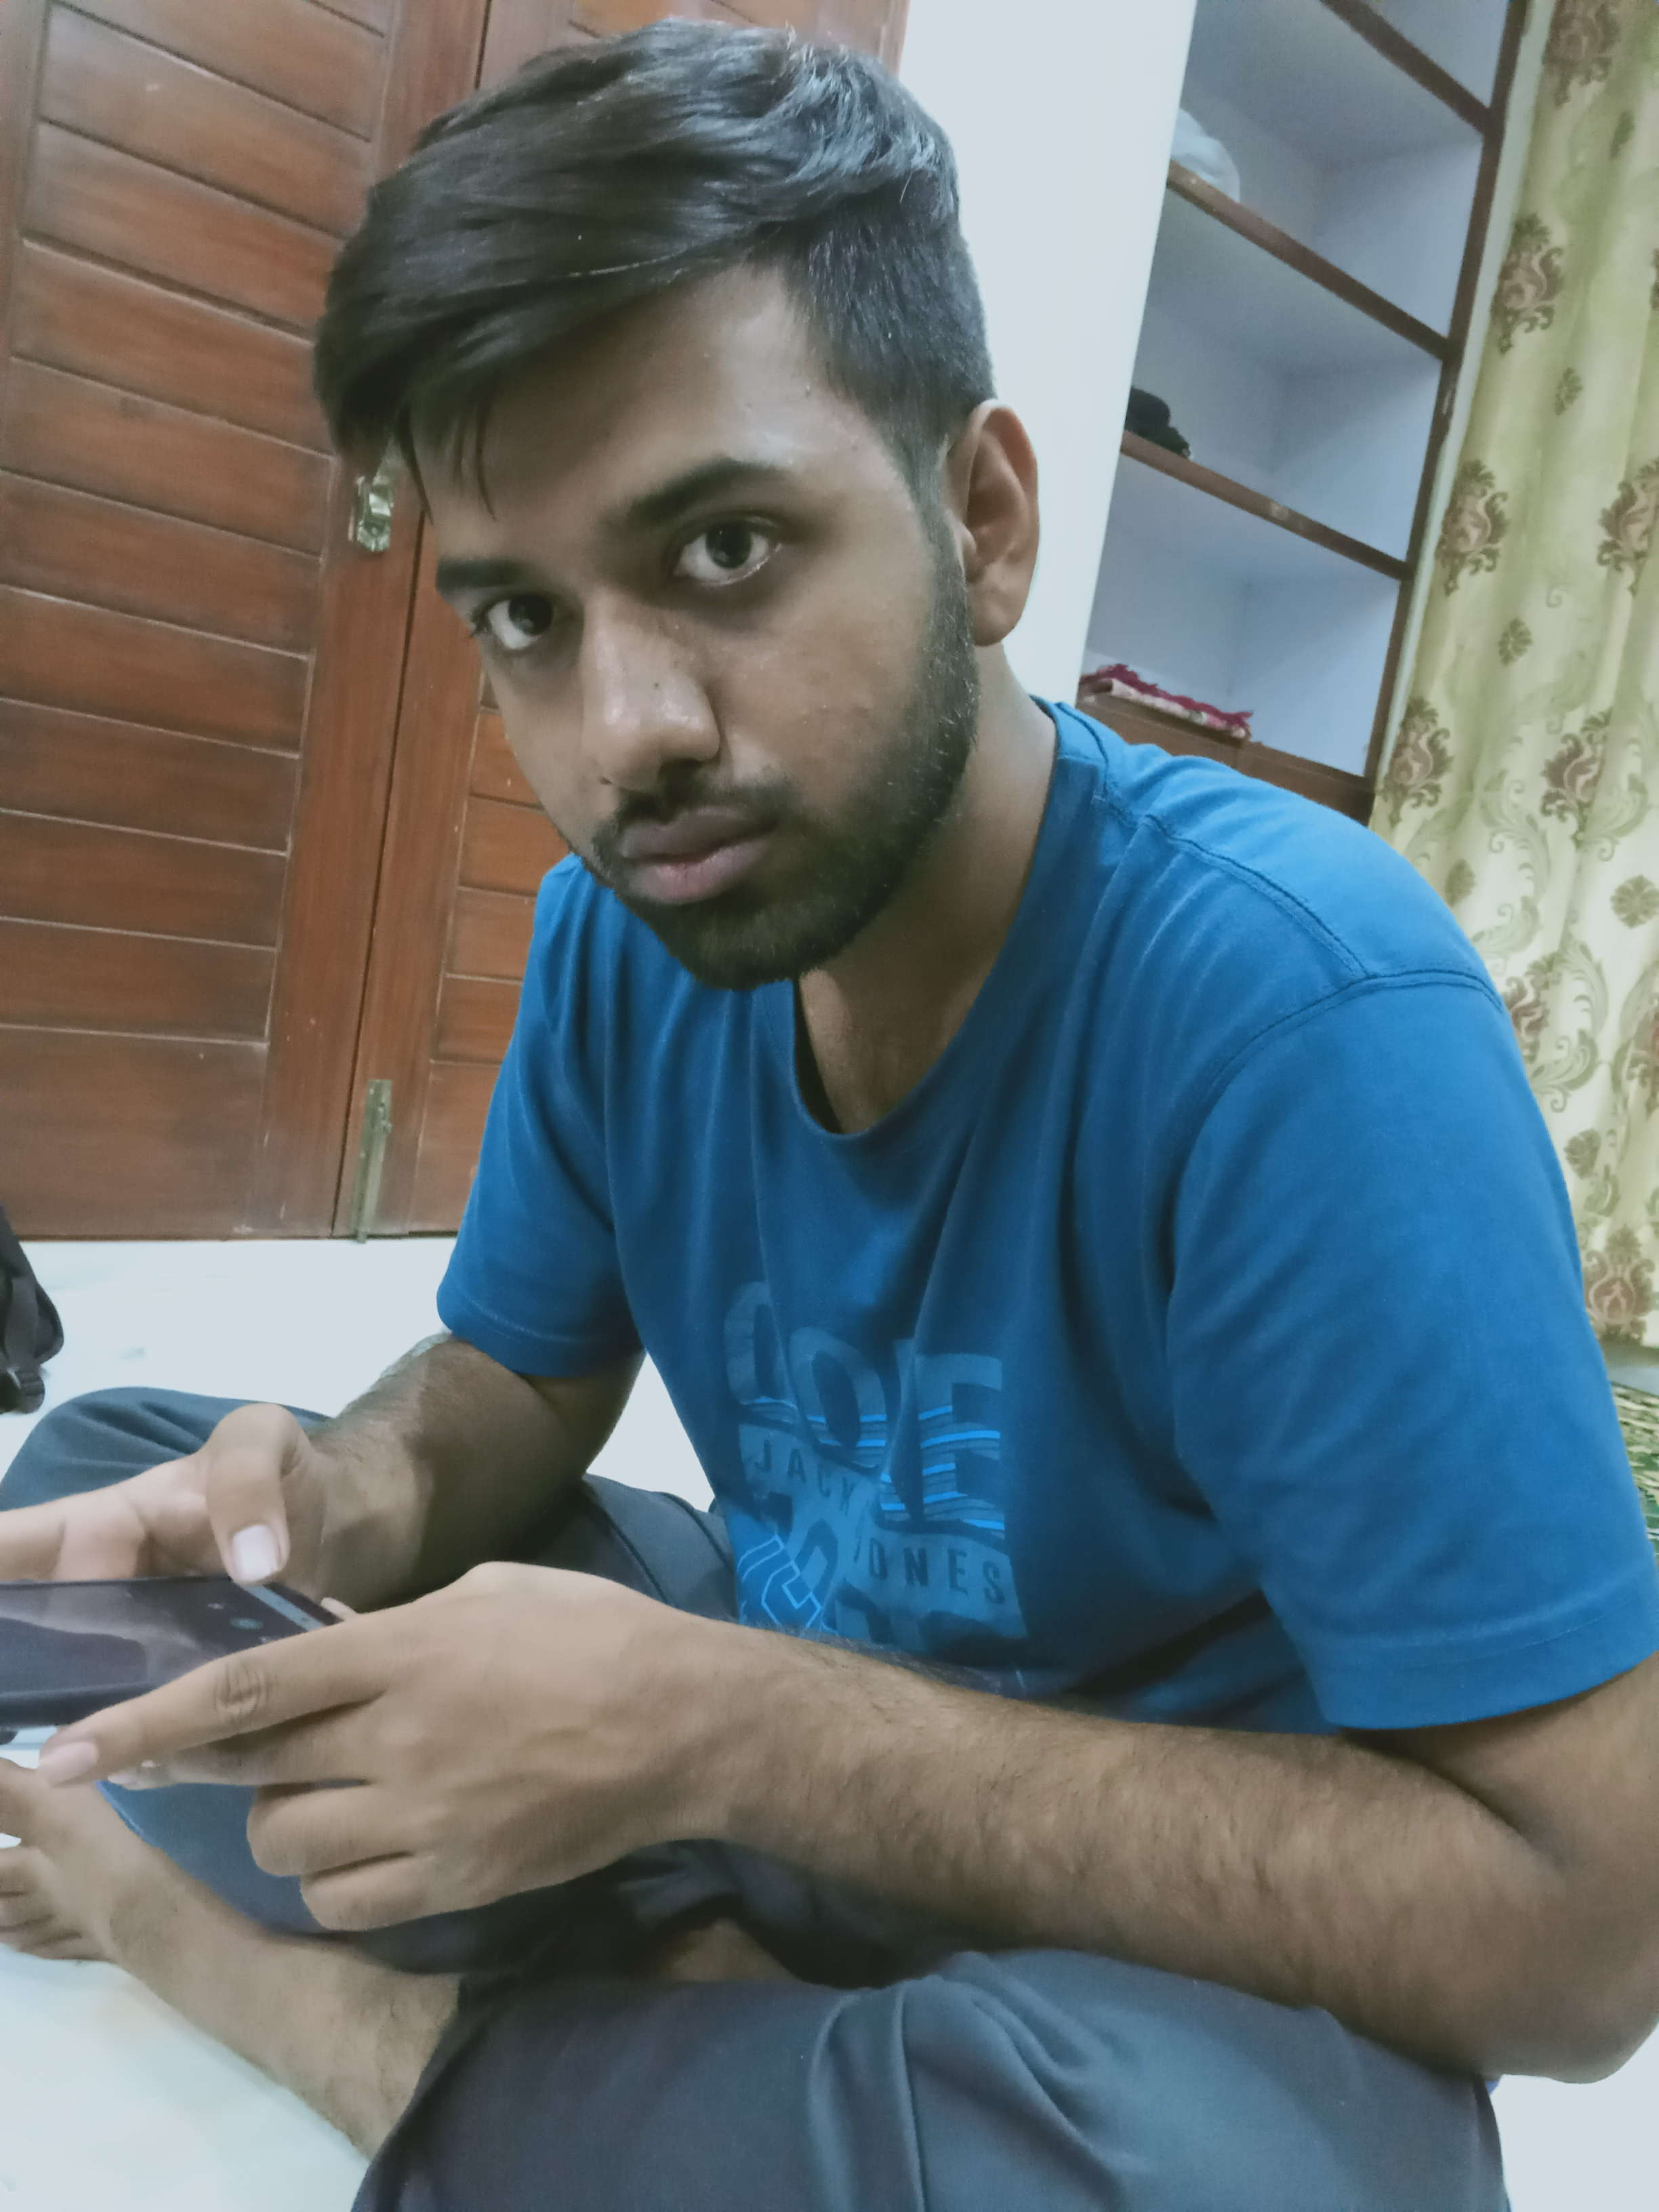NoMask: (433, 418, 955, 981)
